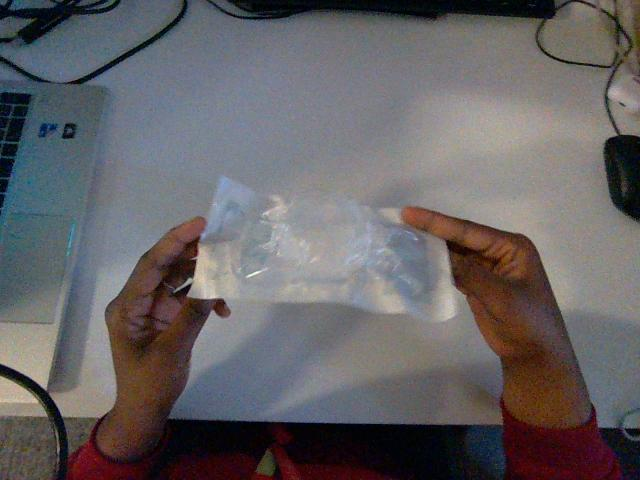gallipot: (189, 177, 454, 321)
